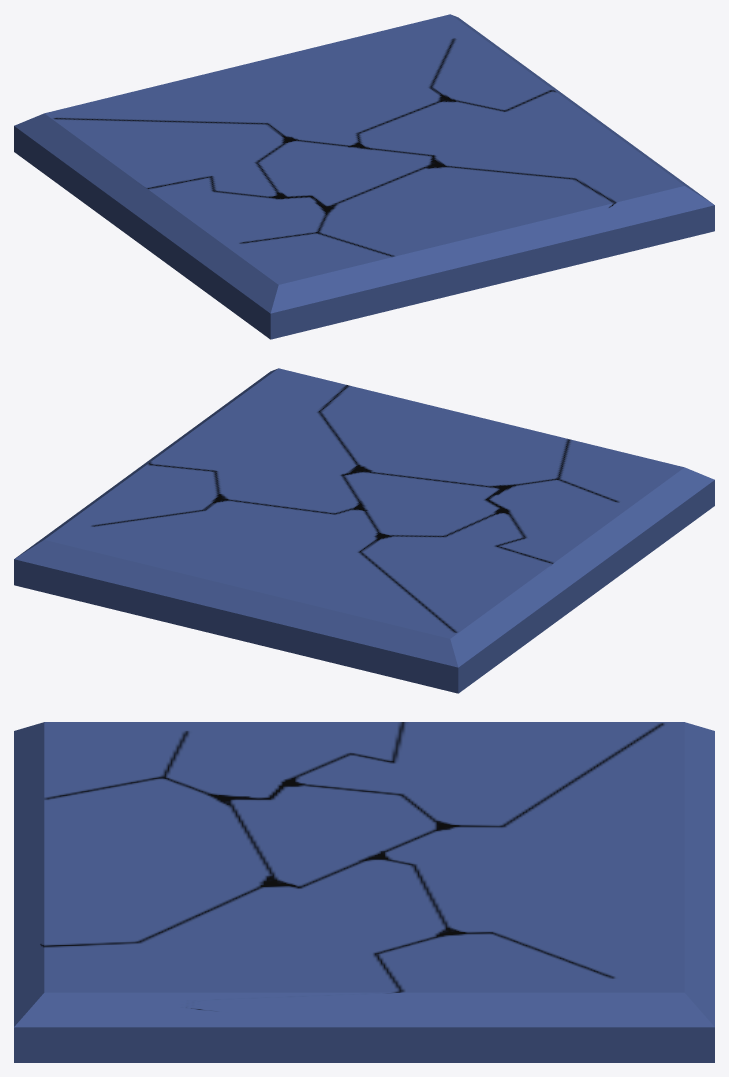
Rendered from 3D_trap_lava_chasm.fbx.
The picture shows the model from 3 angles, top to bottom: view 1: azimuth 30°, elevation 25°; view 2: azimuth 150°, elevation 25°; view 3: azimuth 270°, elevation 25°; orthographic projection. The views are drawn at different scales.
Parts seen in each view (by area): view 1: SM_trap_Chasm_fracture1, SM_trap_lava_chasm1; view 2: SM_trap_Chasm_fracture1, SM_trap_lava_chasm1; view 3: SM_trap_Chasm_fracture1.
Part boxes in pixels (box(x1,y1,x2,y2)): SM_trap_Chasm_fracture1: box(14, 14, 714, 339); SM_trap_lava_chasm1: box(14, 128, 270, 339); SM_trap_Chasm_fracture1: box(14, 368, 714, 693); SM_trap_lava_chasm1: box(14, 482, 714, 693); SM_trap_Chasm_fracture1: box(14, 722, 714, 1062).
Size of the model in its own units: 100 by 9.02 by 100.
2 materials, 2 textured.
